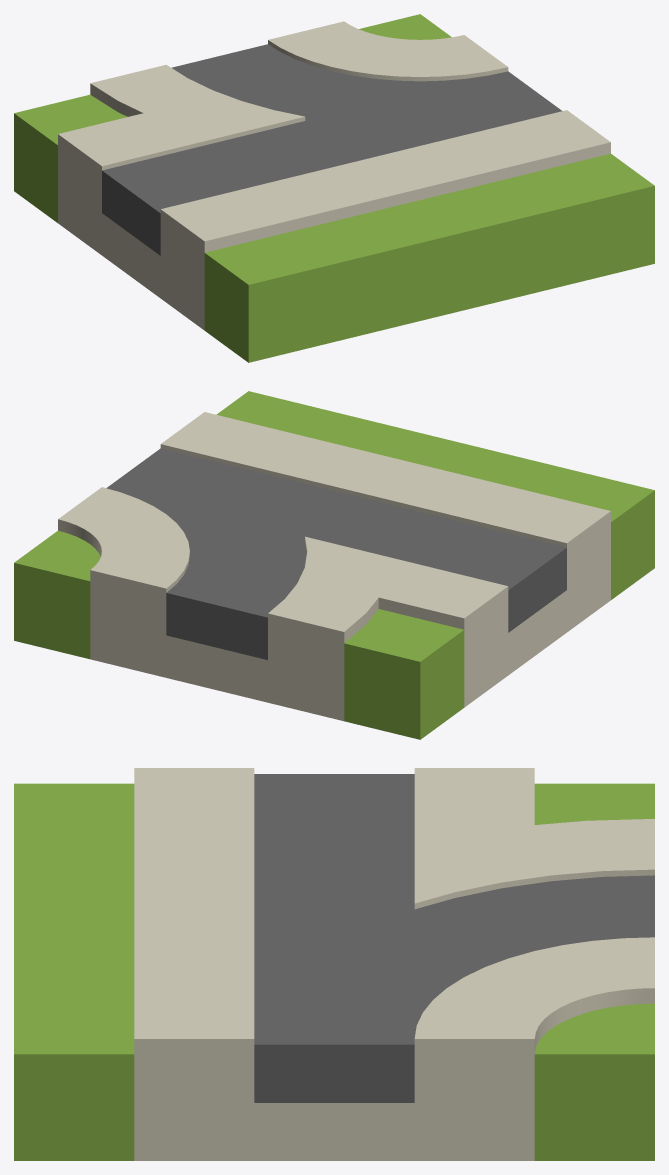
File: tile042.dae
3 views of the same model, one above another, from view 1: azimuth 30°, elevation 25°; view 2: azimuth 150°, elevation 25°; view 3: azimuth 270°, elevation 25° (orthographic). The views are drawn at different scales.
Visible parts, largest first — view 1: tile042; view 2: tile042; view 3: tile042.
Part boxes in pixels (x1,y1,x2,y2): tile042: (14,14,654,362); tile042: (14,391,654,739); tile042: (14,768,654,1160).
Bounding box in the file's own units: 1 × 0.21 × 1.
